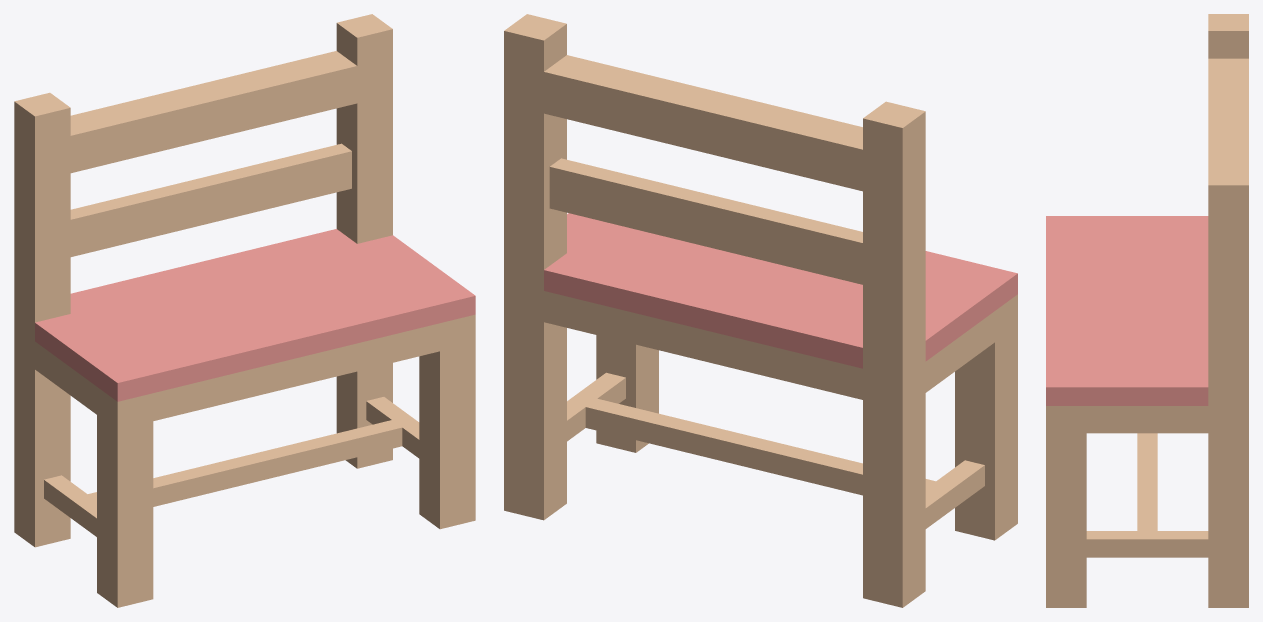
The model's file is benchCushion.glb.
3 renders of one model, left to right at view 1: azimuth 30°, elevation 25°; view 2: azimuth 150°, elevation 25°; view 3: azimuth 270°, elevation 25°, orthographic. The views are drawn at different scales.
Visible parts, largest first — view 1: benchCushion(Clone); view 2: benchCushion(Clone); view 3: benchCushion(Clone).
Part boxes in pixels (<box>): benchCushion(Clone): <box>14,14,475,607</box>; benchCushion(Clone): <box>504,14,1017,607</box>; benchCushion(Clone): <box>1046,14,1248,607</box>.
Size of the model in its own units: 0.812 by 0.9338 by 0.406.
2 materials, 2 textured.
